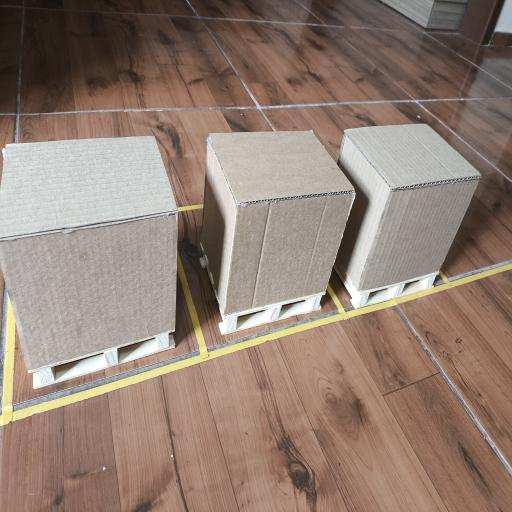pallet: (34, 333, 175, 389), (334, 261, 438, 308), (219, 293, 325, 335)
